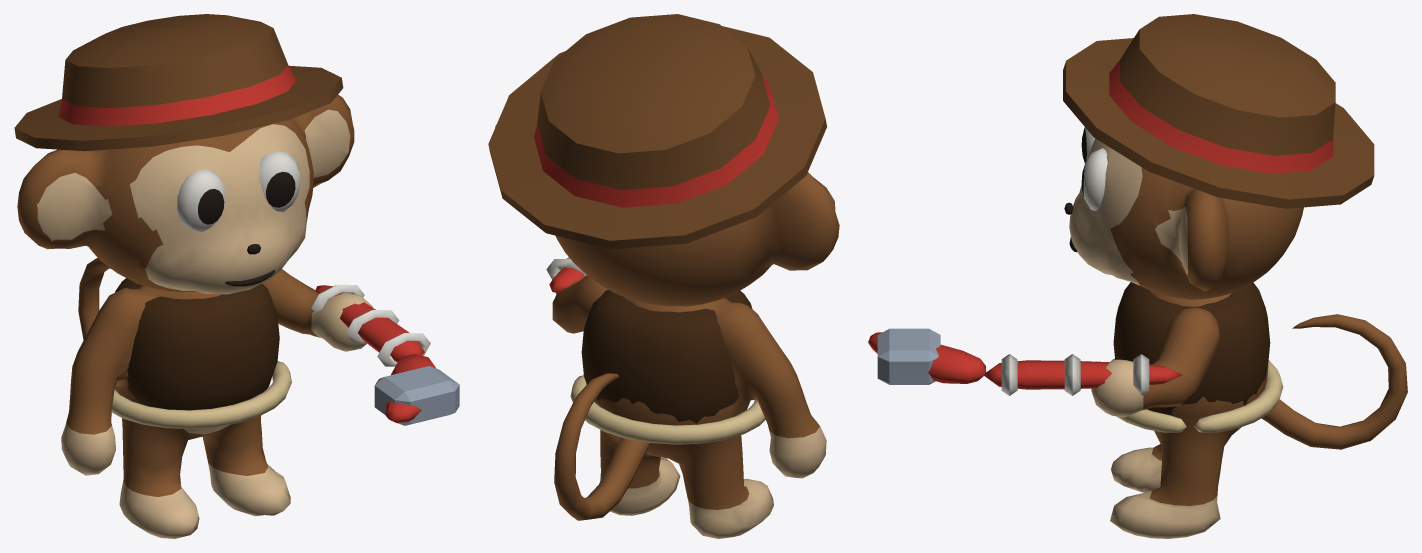
3 renders of one model, left to right at view 1: azimuth 30°, elevation 25°; view 2: azimuth 150°, elevation 25°; view 3: azimuth 270°, elevation 25°, orthographic. The views are drawn at different scales.
Parts seen in each view (by area): view 1: bumerangue_2_cabeca, bumerangue_0_corpo, bumerangue_3_braco, bumerangue_1_cauda; view 2: bumerangue_2_cabeca, bumerangue_0_corpo, bumerangue_1_cauda, bumerangue_3_braco; view 3: bumerangue_2_cabeca, bumerangue_0_corpo, bumerangue_3_braco, bumerangue_1_cauda.
Boxes of the visible parts, x1,y1,x2,y2 form: bumerangue_2_cabeca: (14, 14, 354, 294); bumerangue_0_corpo: (61, 278, 291, 538); bumerangue_3_braco: (262, 269, 459, 425); bumerangue_1_cauda: (78, 257, 110, 339); bumerangue_2_cabeca: (488, 14, 839, 306); bumerangue_0_corpo: (570, 290, 826, 538); bumerangue_1_cauda: (554, 373, 649, 520); bumerangue_3_braco: (546, 257, 607, 333); bumerangue_2_cabeca: (1063, 14, 1374, 299); bumerangue_0_corpo: (1110, 282, 1283, 538); bumerangue_3_braco: (868, 307, 1219, 417); bumerangue_1_cauda: (1261, 314, 1407, 449).
Size of the model in its own units: 0.7918 by 1.08 by 1.11.
